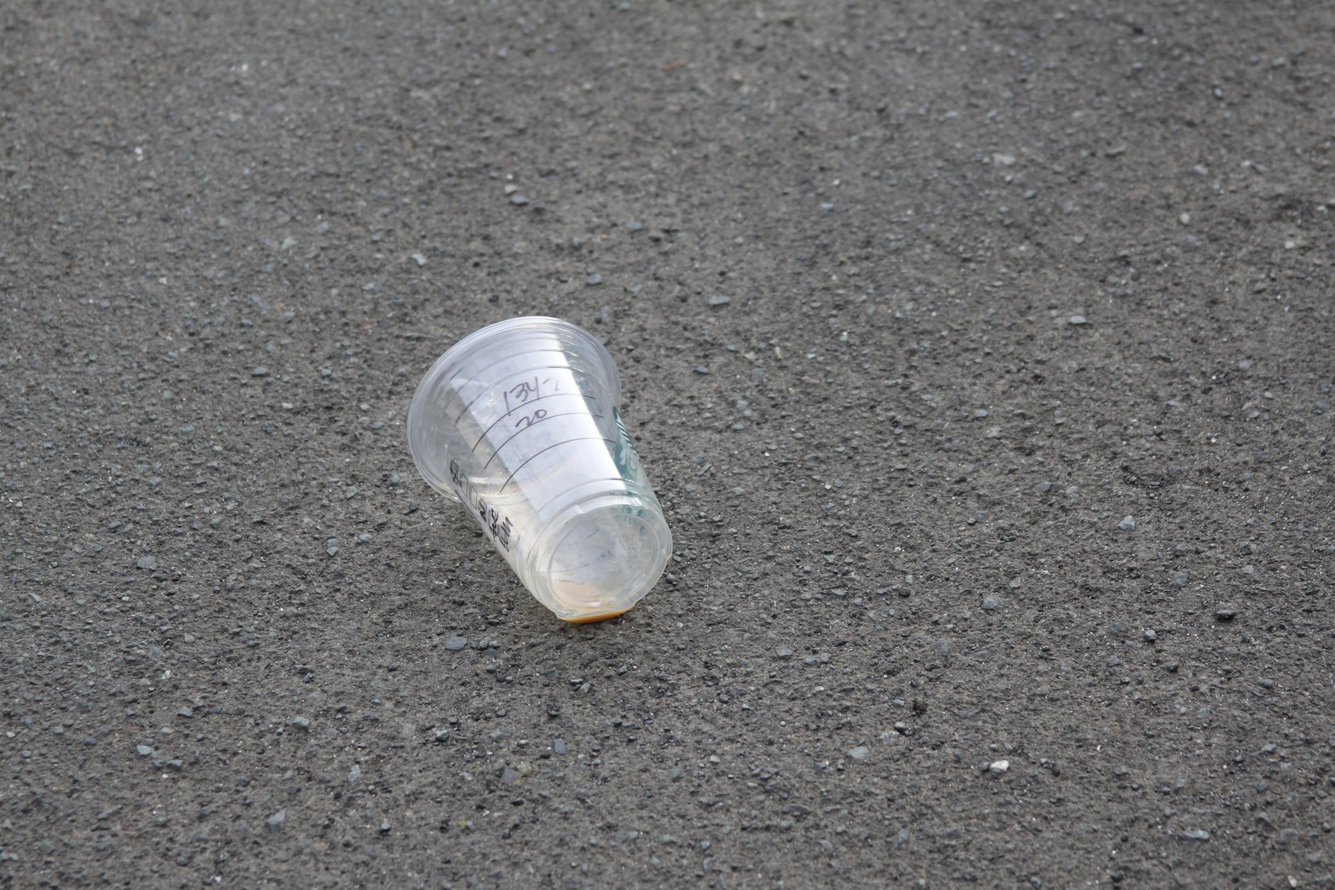Plastic: (404, 309, 678, 628)
